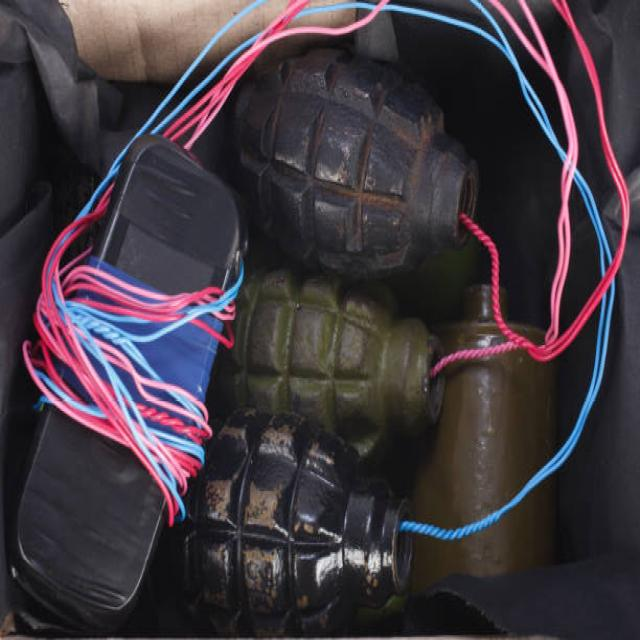grenade: (235, 60, 478, 282), (193, 405, 418, 635), (226, 273, 454, 442)
